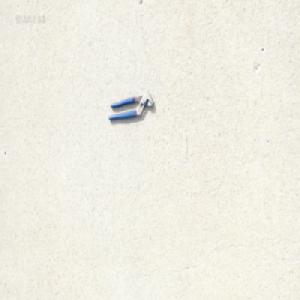Pliers: (108, 91, 155, 122)
